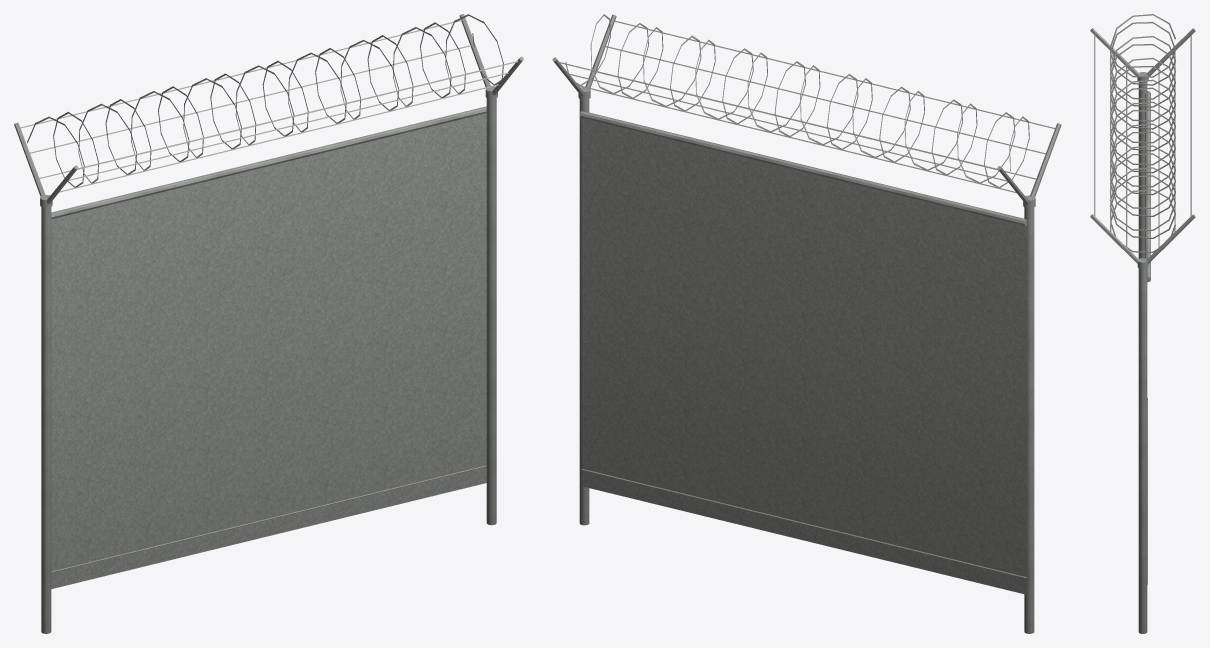
File: fence.glb
3 renders of one model, left to right at view 1: azimuth 30°, elevation 25°; view 2: azimuth 150°, elevation 25°; view 3: azimuth 270°, elevation 25°, orthographic. The views are drawn at different scales.
Parts seen in each view (by area): view 1: fence; view 2: fence; view 3: fence.
Part boxes in pixels (left/top/right/bottom): fence: left=14, top=14, right=523, bottom=633; fence: left=552, top=14, right=1061, bottom=633; fence: left=1090, top=14, right=1195, bottom=633.
Size of the model in its own units: 3.07 by 3.27 by 0.7206.
Materials: 3 (2 with a texture image).
